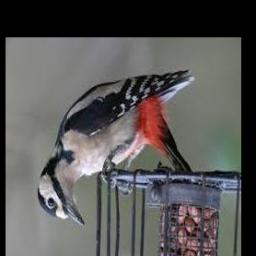Woodpecker: (37, 69, 194, 226)
